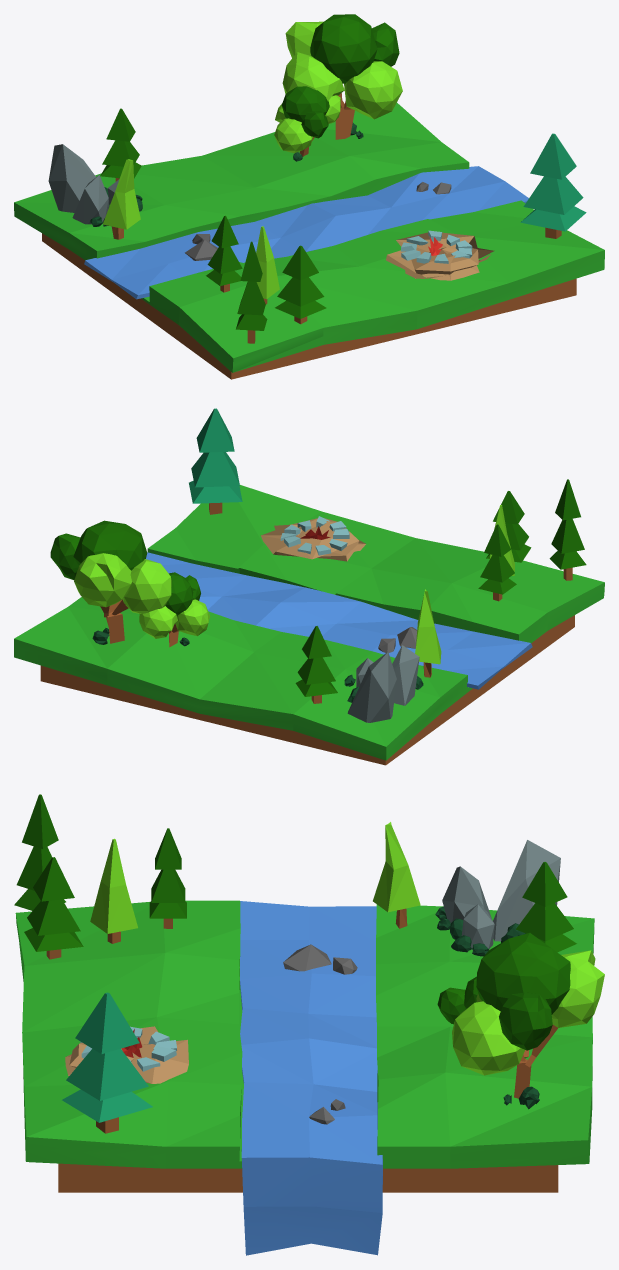
The model's file is lowpolyworld.fbx.
3 renders of one model, top to bottom at view 1: azimuth 30°, elevation 25°; view 2: azimuth 150°, elevation 25°; view 3: azimuth 270°, elevation 25°, orthographic. The views are drawn at different scales.
Parts seen in each view (by area): view 1: Cube.001, Plane, Icosphere.003, Cube, Cube.009, Icosphere.005, Circle, Cube.006, Icosphere, Cube.004, Cube.007, Cube.008 (+5 smaller); view 2: Cube.001, Plane, Icosphere.003, Cube, Cube.009, Icosphere.005, Icosphere, Circle, Cube.004, Cube.008, Cube.005, Cube.007 (+3 smaller); view 3: Cube.001, Plane, Icosphere.003, Cube, Cube.009, Cube.006, Cube.008, Cube.003, Icosphere, Cube.007, Cube.005, Cube.004 (+6 smaller).
Boxes of the visible parts, x1,y1,x2,y2 form: Cube.001: (14,102,604,372); Plane: (84,166,528,299); Icosphere.003: (282,14,402,119); Cube: (42,233,576,379); Cube.009: (520,133,586,238); Icosphere.005: (274,86,340,156); Circle: (386,232,494,280); Cube.006: (275,245,326,324); Icosphere: (48,144,95,212); Cube.004: (236,241,267,343); Cube.007: (103,159,140,239); Cube.008: (100,108,141,181); Cube.001: (14,485,604,760); Plane: (146,552,532,689); Icosphere.003: (50,520,171,617); Cube: (40,615,574,765); Cube.009: (189,408,242,514); Icosphere.005: (139,572,210,647); Icosphere: (347,652,396,722); Circle: (261,518,365,561); Cube.004: (549,479,586,580); Cube.008: (295,626,337,703); Cube.005: (478,524,516,601); Cube.007: (415,589,441,677); Cube.001: (15,900,594,1168); Plane: (240,901,382,1255); Icosphere.003: (452,932,604,1075); Cube: (58,1163,558,1192); Cube.009: (62,992,152,1133); Cube.006: (24,857,83,959); Cube.008: (516,862,576,952); Cube.003: (90,838,137,943); Icosphere: (493,840,560,941); Cube.007: (373,822,420,928); Cube.005: (149,828,186,928); Cube.004: (14,794,65,910).
Bounding box in the file's own units: 882 × 420 × 860.
